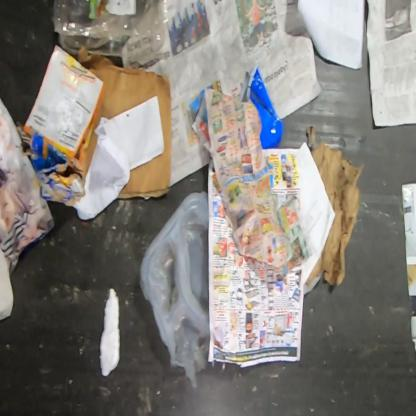cardboard: (70, 44, 172, 200), (22, 44, 104, 166), (304, 124, 365, 287), (15, 122, 86, 207)
rigid_plastic: (140, 191, 211, 391), (52, 0, 170, 64), (237, 65, 284, 150)
